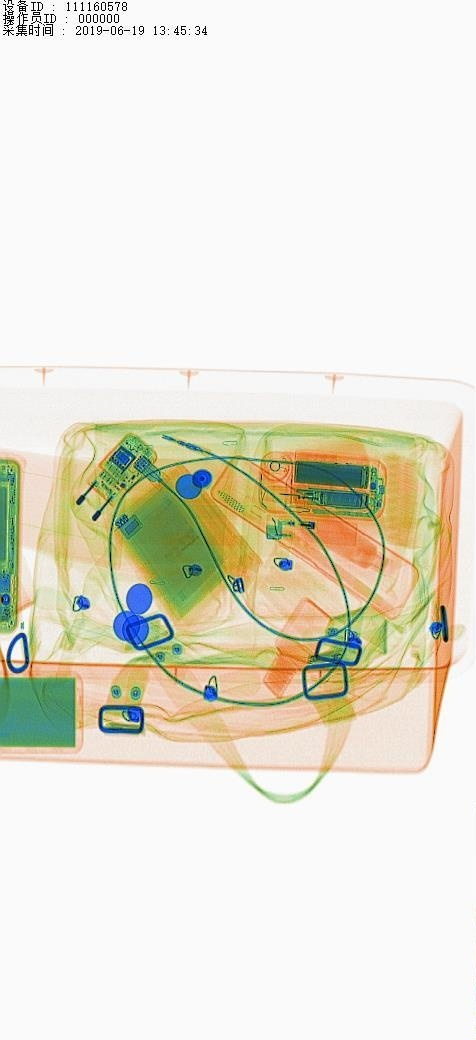NonmetallicFire: (250, 499, 385, 564)
